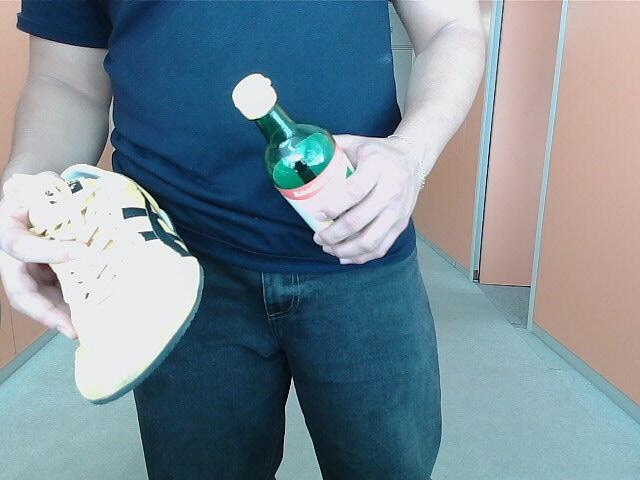Lemon_sapporo: (225, 66, 397, 266)
Shoes: (21, 155, 209, 413)
